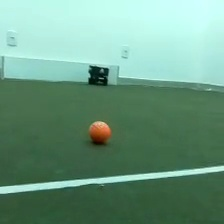ball: (86, 117, 113, 145)
goal: (1, 53, 121, 87)
robot: (86, 62, 110, 87)
